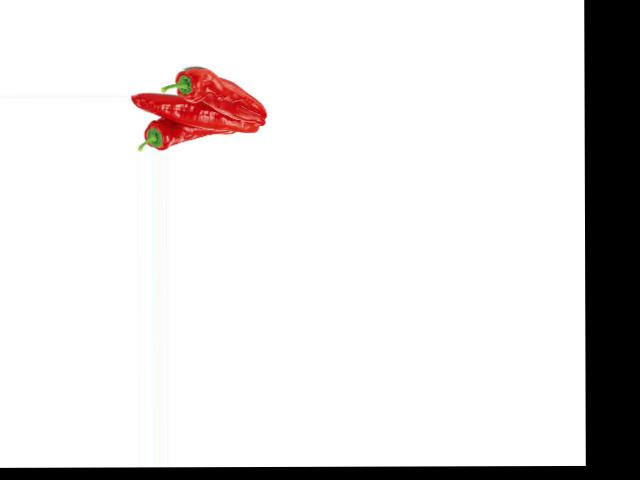bell_pepper: (158, 64, 268, 113)
